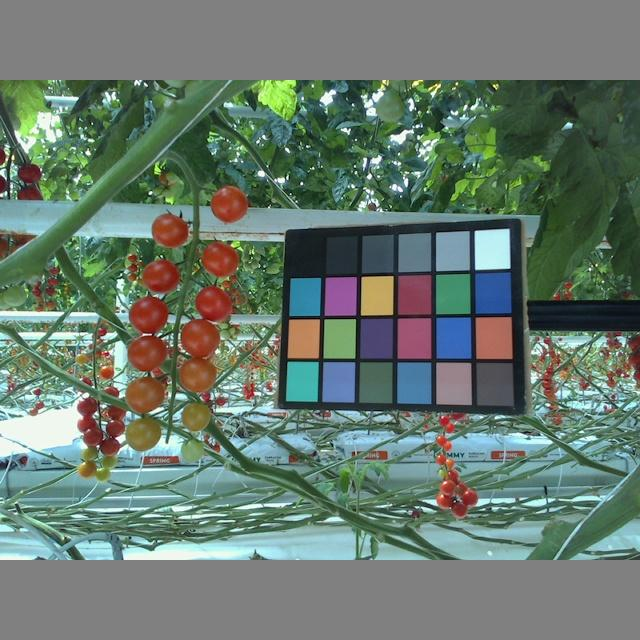green: (122, 418, 161, 452), (373, 91, 408, 124), (182, 399, 208, 430), (180, 434, 204, 460)
pink: (124, 373, 165, 414), (175, 356, 217, 394), (208, 185, 249, 223), (180, 318, 220, 356), (128, 298, 169, 335), (128, 333, 167, 371), (199, 241, 239, 277), (196, 286, 232, 322), (139, 261, 180, 292), (151, 215, 190, 247)
